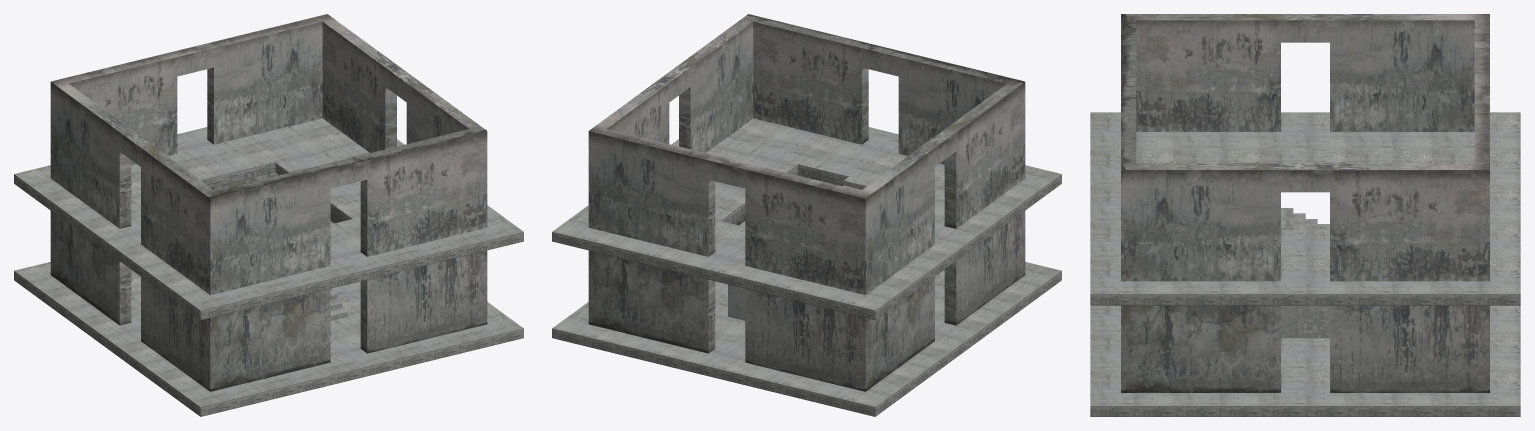
The model's file is staircase.obj.
3 views of the same model, side by side, from view 1: azimuth 30°, elevation 25°; view 2: azimuth 150°, elevation 25°; view 3: azimuth 270°, elevation 25° (orthographic). The views are drawn at different scales.
Visible parts, largest first — view 1: Boole, Ebene_Stock_1, Ebene_Stock_0; view 2: Boole, Ebene_Stock_1, Ebene_Stock_0, Treppe; view 3: Boole, Ebene_Stock_1, Ebene_Stock_0, Treppe.
Boxes of the visible parts, x1,y1,x2,y2 form: Boole: [50, 14, 487, 391]; Ebene_Stock_1: [14, 118, 523, 320]; Ebene_Stock_0: [14, 221, 523, 416]; Boole: [588, 14, 1025, 391]; Ebene_Stock_1: [552, 118, 1061, 320]; Ebene_Stock_0: [552, 221, 1061, 416]; Treppe: [728, 177, 871, 320]; Boole: [1121, 14, 1489, 392]; Ebene_Stock_1: [1090, 112, 1520, 305]; Ebene_Stock_0: [1090, 224, 1520, 416]; Treppe: [1281, 208, 1329, 338].
Size of the model in its own units: 7 by 4.2 by 7.
Materials: 2 (2 with a texture image).
